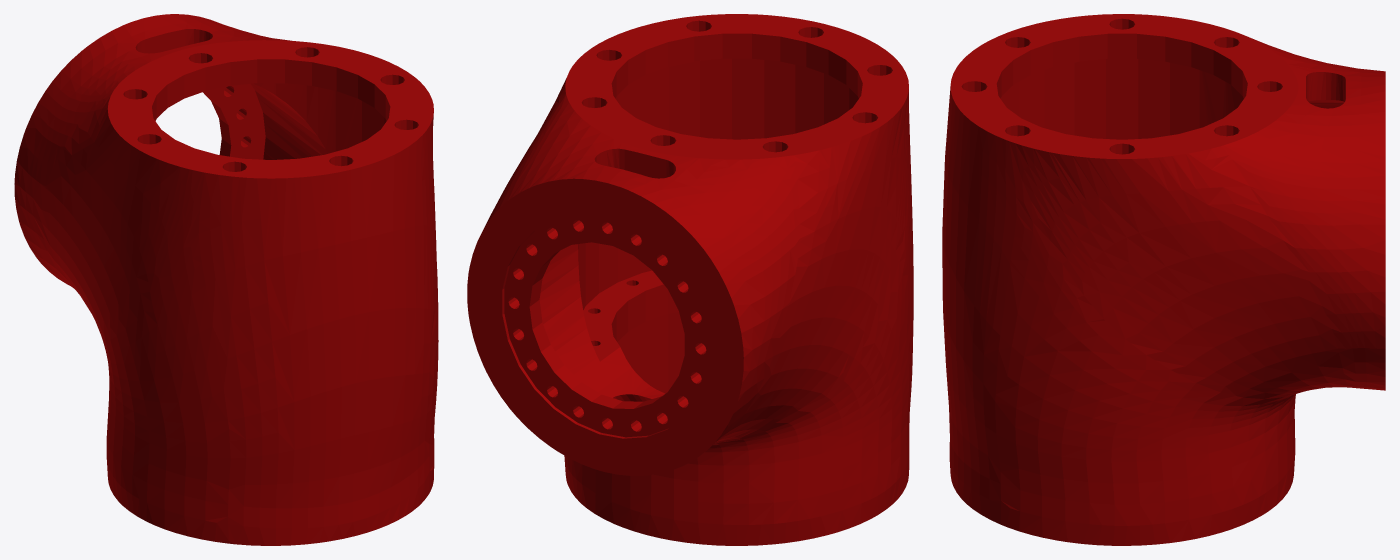
The model's file is R_shoulder1.obj.
3 views of the same model, side by side, from view 1: azimuth 30°, elevation 25°; view 2: azimuth 150°, elevation 25°; view 3: azimuth 270°, elevation 25° (orthographic). The views are drawn at different scales.
Parts seen in each view (by area): view 1: R_shoulder1; view 2: R_shoulder1; view 3: R_shoulder1.
Boxes of the visible parts, bbox=[...] form: R_shoulder1: bbox=[14, 14, 438, 545]; R_shoulder1: bbox=[467, 14, 913, 545]; R_shoulder1: bbox=[942, 14, 1385, 545].
Size of the model in its own units: 0.0874 by 0.107 by 0.1111.
